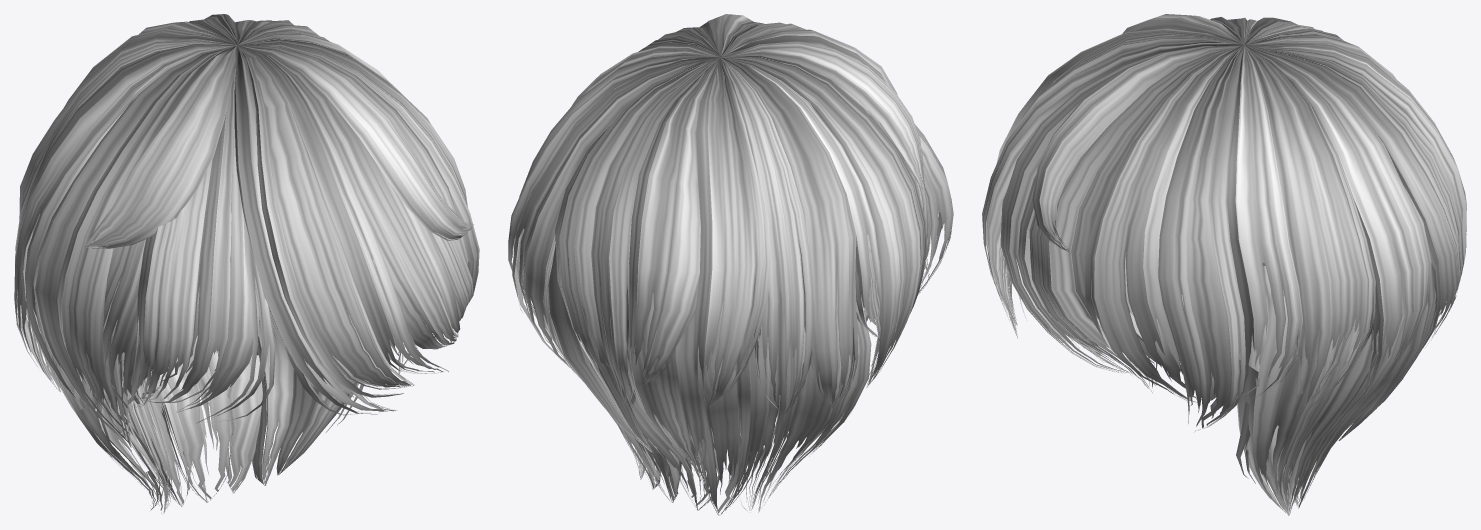
File: m__hair_306.glb
3 views of the same model, side by side, from view 1: azimuth 30°, elevation 25°; view 2: azimuth 150°, elevation 25°; view 3: azimuth 270°, elevation 25° (orthographic). The views are drawn at different scales.
Parts seen in each view (by area): view 1: M_HAIR_306; view 2: M_HAIR_306; view 3: M_HAIR_306.
Part boxes in pixels (x1=…): M_HAIR_306: x1=14, y1=14, x2=479, y2=513; M_HAIR_306: x1=508, y1=14, x2=953, y2=515; M_HAIR_306: x1=982, y1=14, x2=1466, y2=515.
Size of the model in its own units: 0.245 by 0.285 by 0.2721.
Materials: 1 (1 with a texture image).
